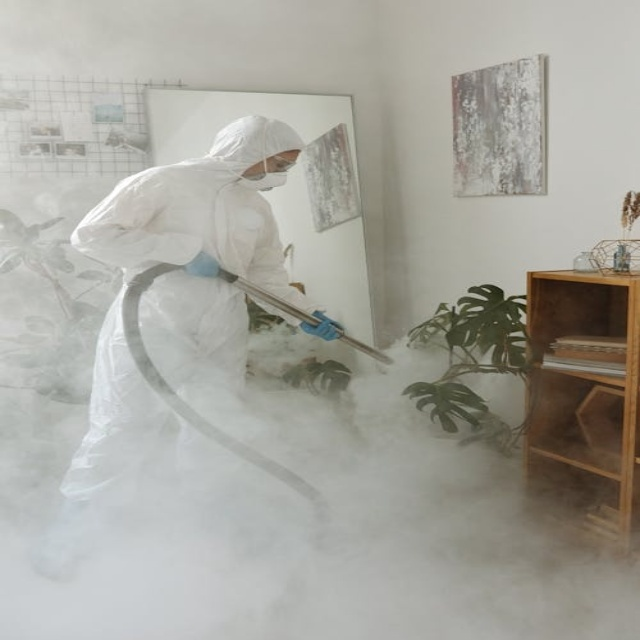Gafas: (269, 153, 298, 173)
Guantes: (300, 310, 343, 341), (184, 250, 221, 278)
Mascara: (241, 164, 289, 191)
